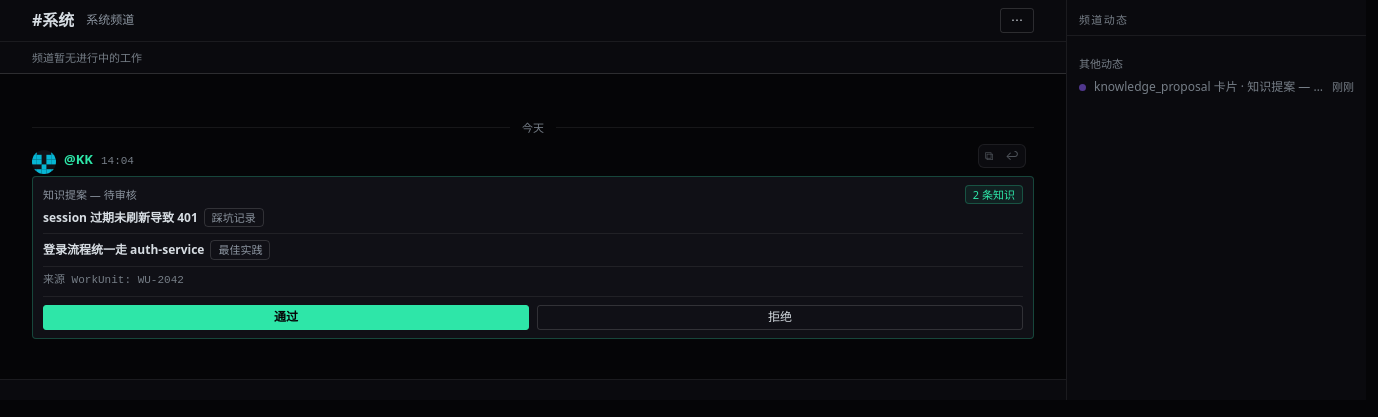
it: ChannelDetailPage — knowledge_proposal 审核分发 › reject → 整卡一次 POST /review-proposals/knowledge/:proposalId/reject，卡片显示已拒绝
The width and height of the screenshot is (1378, 417).
Click the button "拒绝": (780, 318) [537, 305, 1023, 330]
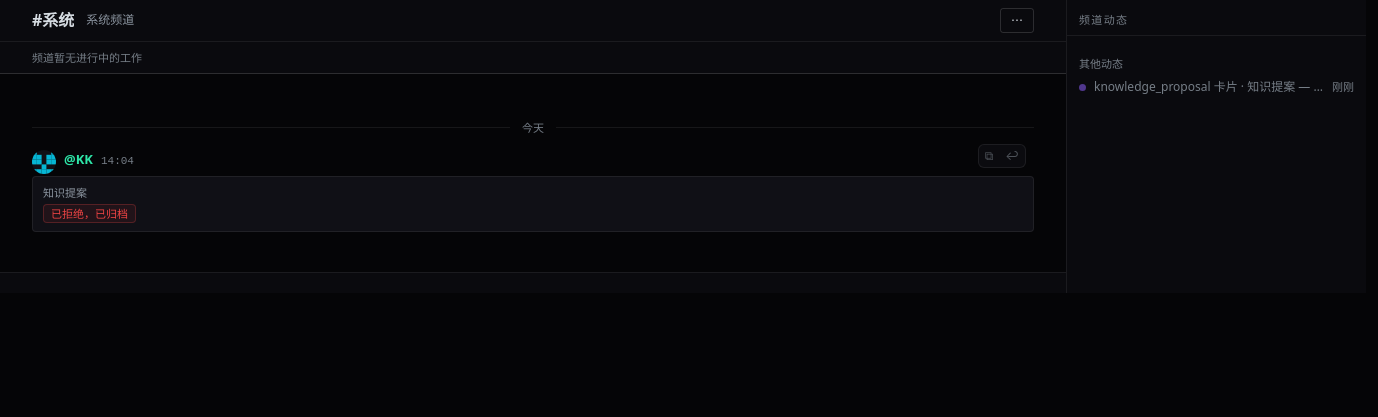
Check: the text "已拒绝，已归档" is shown, box [43, 204, 136, 223]
